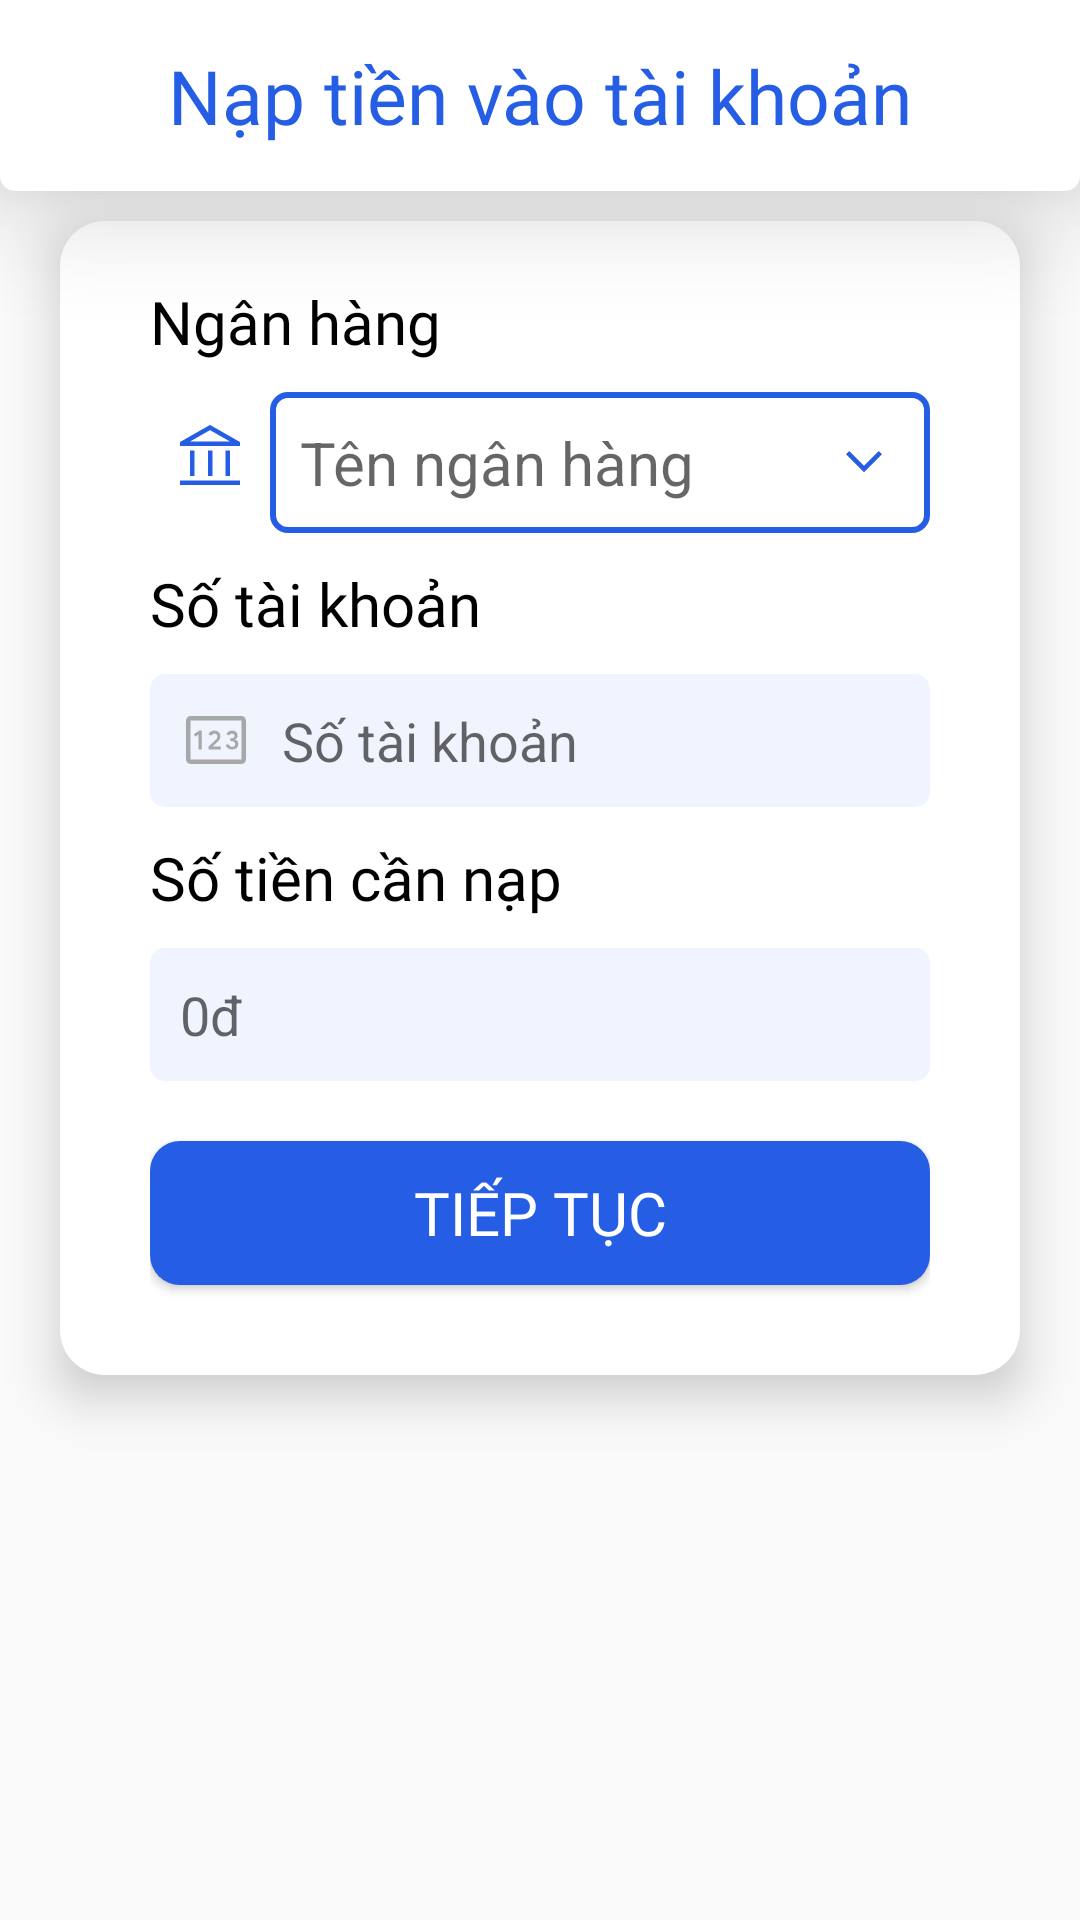

Icon click points for this 1080w x 1920h phone screenshot, format [x,y]:
bank: [210,455]
